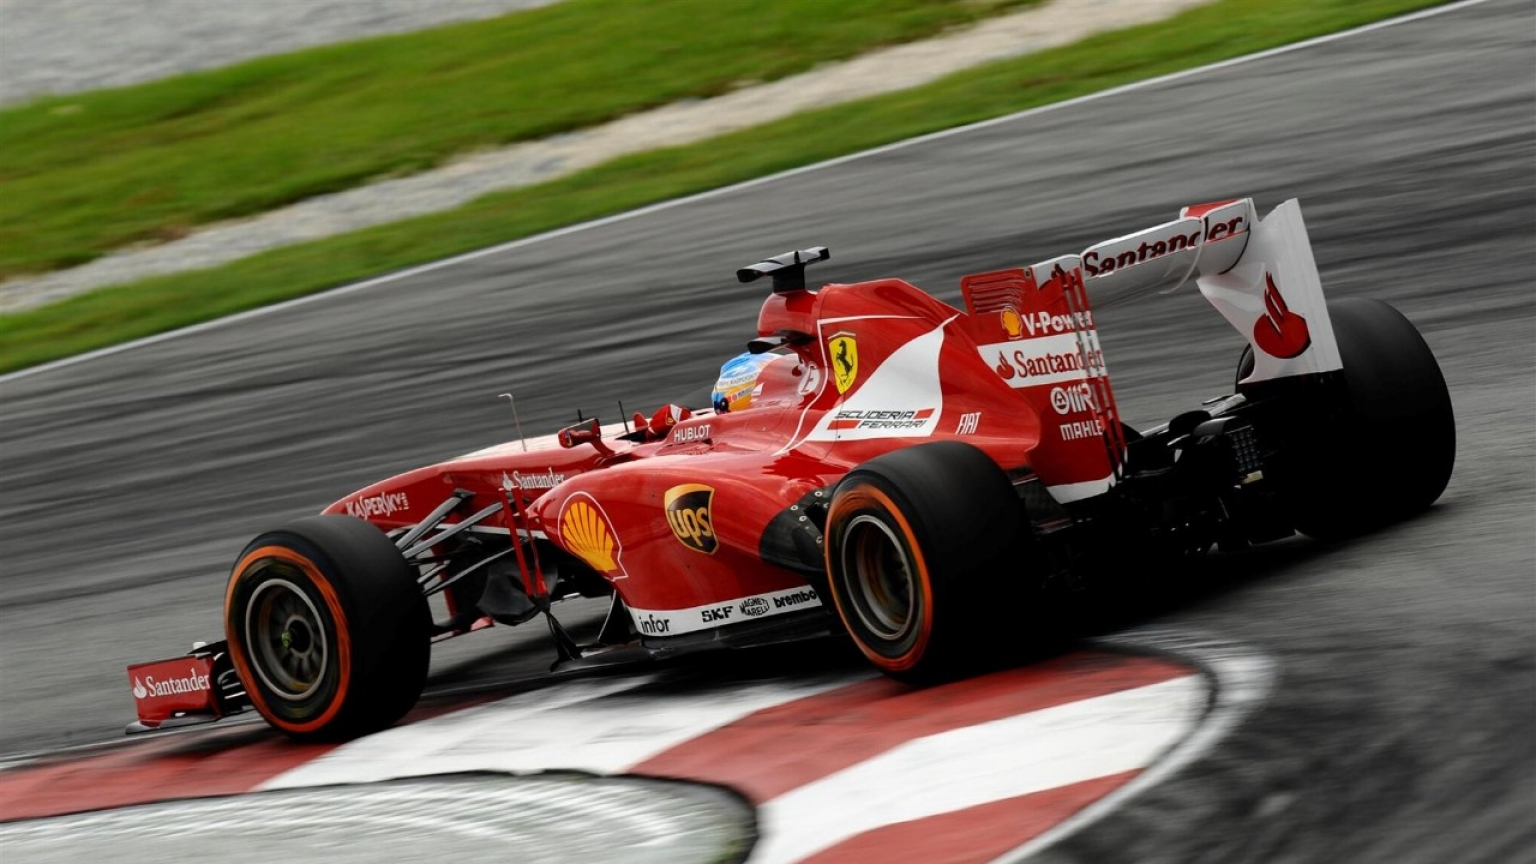race car: (126, 184, 1462, 757)
